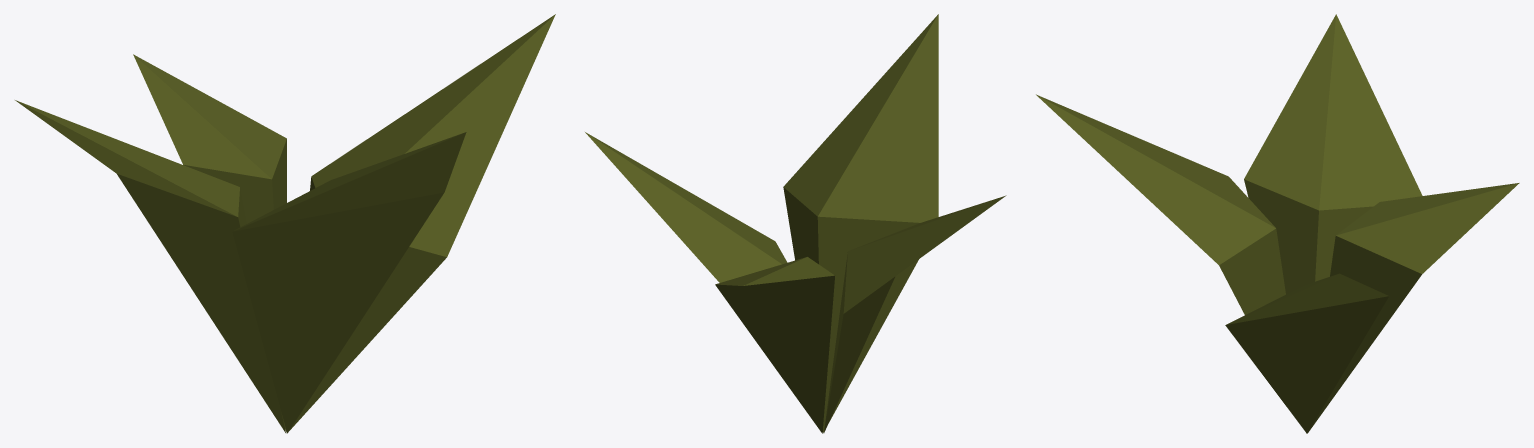
Rendered from TB_Env_Grass_Med_D.FBX.
3 renders of one model, left to right at view 1: azimuth 30°, elevation 25°; view 2: azimuth 150°, elevation 25°; view 3: azimuth 270°, elevation 25°, orthographic. The views are drawn at different scales.
Visible parts, largest first — view 1: TB_Env_Grass_Med_D; view 2: TB_Env_Grass_Med_D; view 3: TB_Env_Grass_Med_D.
Boxes of the visible parts, x1,y1,x2,y2 form: TB_Env_Grass_Med_D: [15, 14, 555, 433]; TB_Env_Grass_Med_D: [585, 14, 1006, 433]; TB_Env_Grass_Med_D: [1036, 14, 1519, 433].
Bounding box in the file's own units: 1.06 × 0.7797 × 0.9906.
